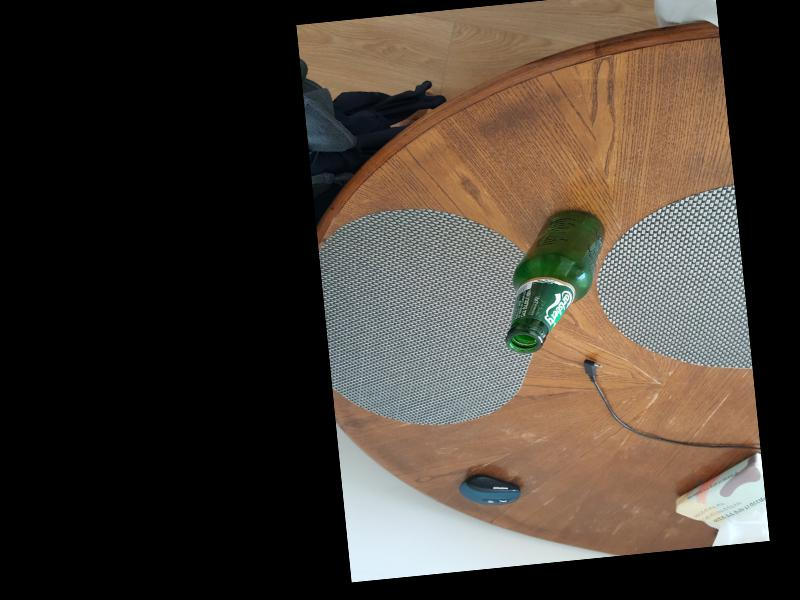Beer: (491, 203, 621, 355)
